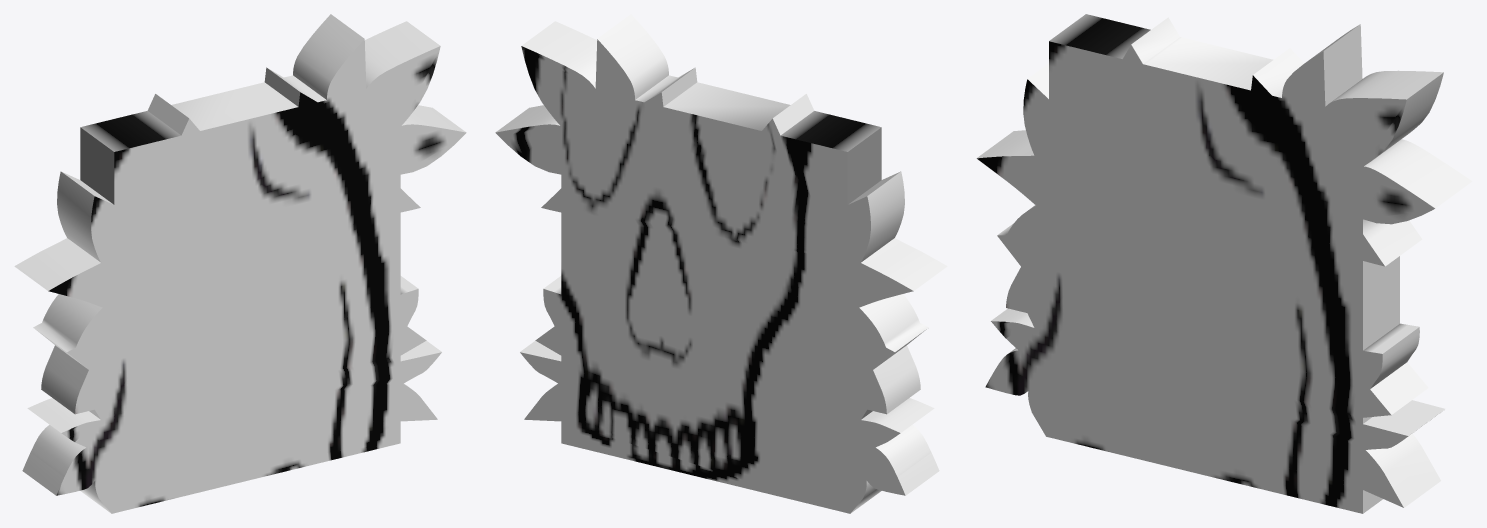
Rendered from saveicon.ico.obj.
3 views of the same model, side by side, from view 1: azimuth 30°, elevation 25°; view 2: azimuth 150°, elevation 25°; view 3: azimuth 330°, elevation 25° (orthographic). The views are drawn at different scales.
Bounding box in the file's own units: 5 × 4.72 × 0.7017.
